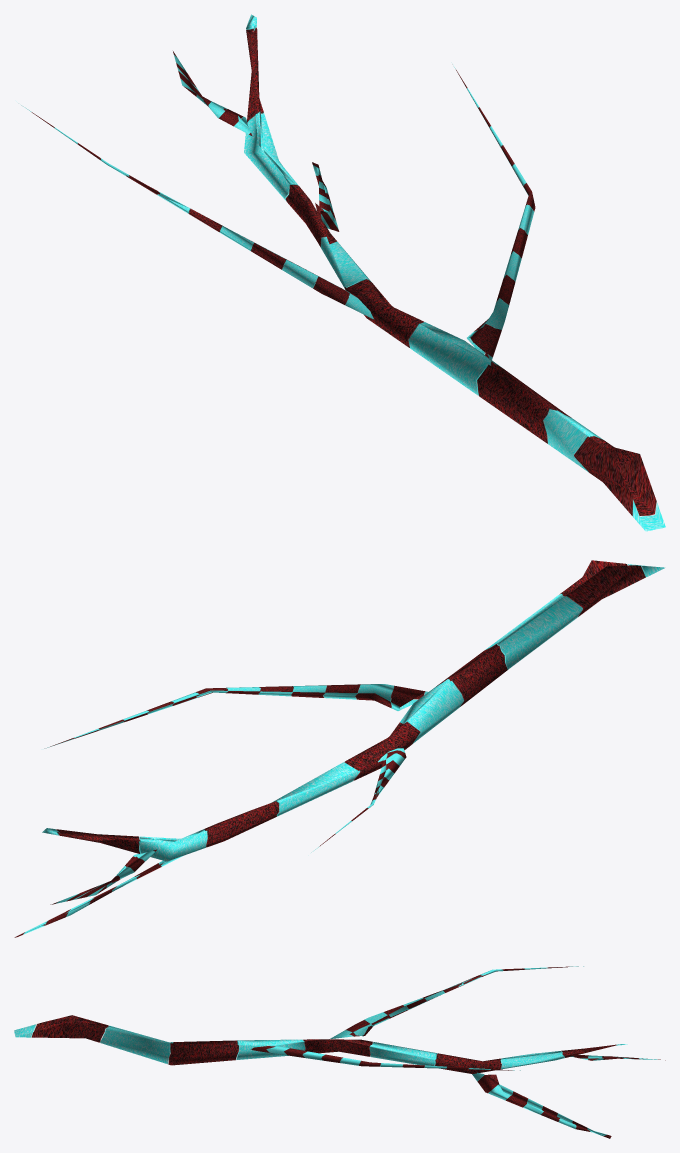
The picture shows the model from 3 angles, top to bottom: view 1: azimuth 30°, elevation 25°; view 2: azimuth 150°, elevation 25°; view 3: azimuth 270°, elevation 25°; orthographic projection. The views are drawn at different scales.
Parts seen in each view (by area): view 1: SM_VFX_Twigs_SM_VFX_TwigA_LOD0; view 2: SM_VFX_Twigs_SM_VFX_TwigA_LOD0; view 3: SM_VFX_Twigs_SM_VFX_TwigA_LOD0.
Boxes of the visible parts, x1,y1,x2,y2 form: SM_VFX_Twigs_SM_VFX_TwigA_LOD0: (21, 14, 665, 531); SM_VFX_Twigs_SM_VFX_TwigA_LOD0: (14, 560, 665, 937); SM_VFX_Twigs_SM_VFX_TwigA_LOD0: (14, 966, 665, 1138).
Size of the model in its own units: 1.28 by 0.5208 by 3.55.
Materials: 1 (1 with a texture image).
